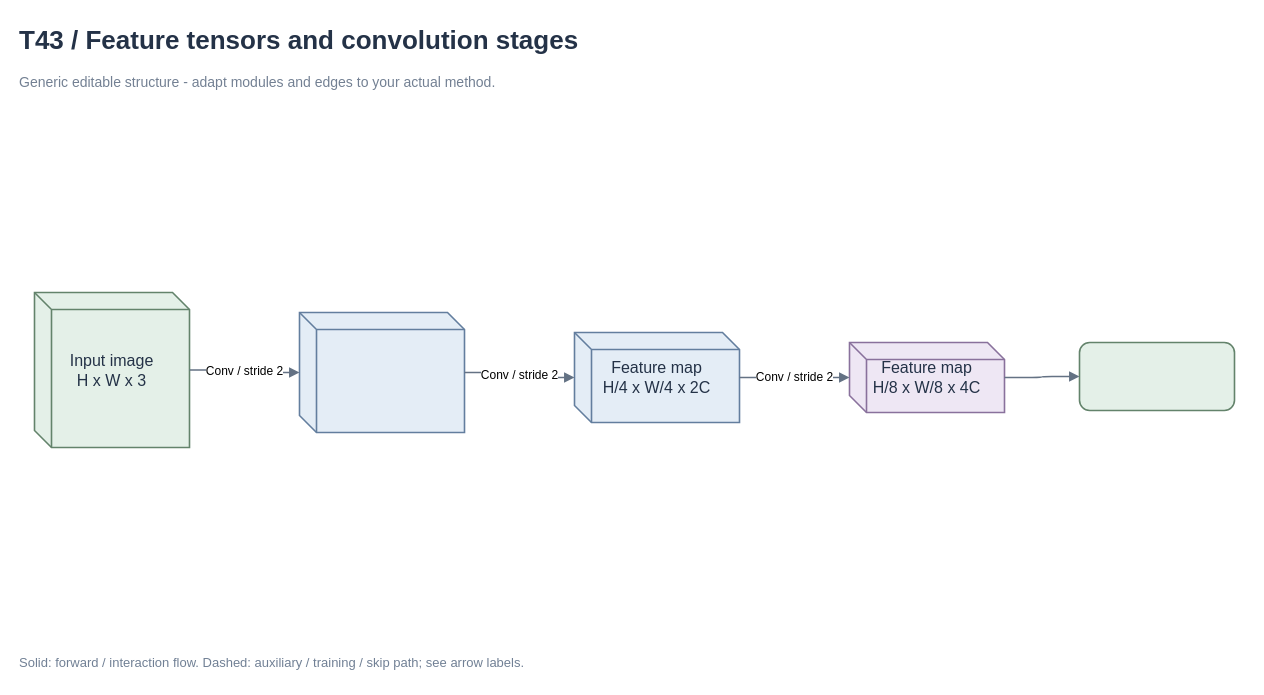
Image size: 1264x695. Some labels were removed from this diagram. The shapes that lost their labels are listed below. From the top down, each one's centre as x and y in pixels, then its label:
the point at 381,372: Feature map H/2 x W/2 x C
the point at 1156,376: Task head
